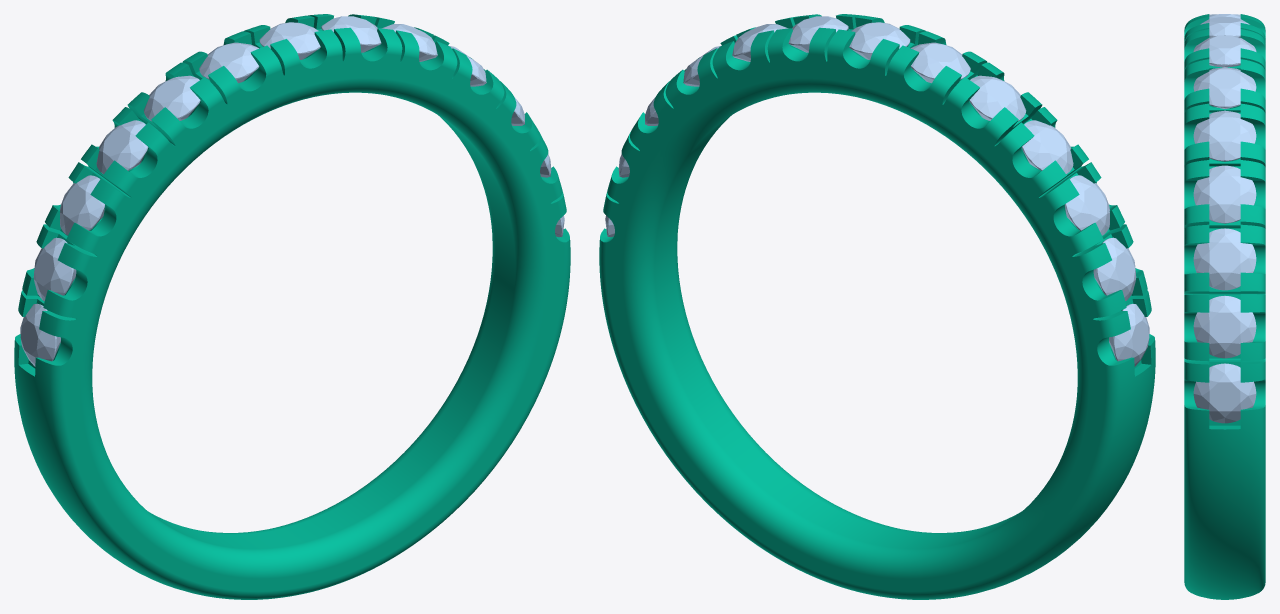
3 views of the same model, side by side, from view 1: azimuth 30°, elevation 25°; view 2: azimuth 150°, elevation 25°; view 3: azimuth 270°, elevation 25° (orthographic). The views are drawn at different scales.
Visible parts, largest first — view 1: VR633(front).3dm, Diamond_Round (×8); view 2: VR633(front).3dm, Diamond_Round (×8); view 3: VR633(front).3dm, Diamond_Round (×8).
Boxes of the visible parts, <box> form: VR633(front).3dm: <box>14,14,570,599</box>; Diamond_Round (×8): <box>20,16,381,366</box>; VR633(front).3dm: <box>599,14,1155,599</box>; Diamond_Round (×8): <box>788,16,1149,366</box>; VR633(front).3dm: <box>1184,14,1265,599</box>; Diamond_Round (×8): <box>1193,17,1256,423</box>.
Size of the model in its own units: 2.82 by 2.81 by 0.3904.
